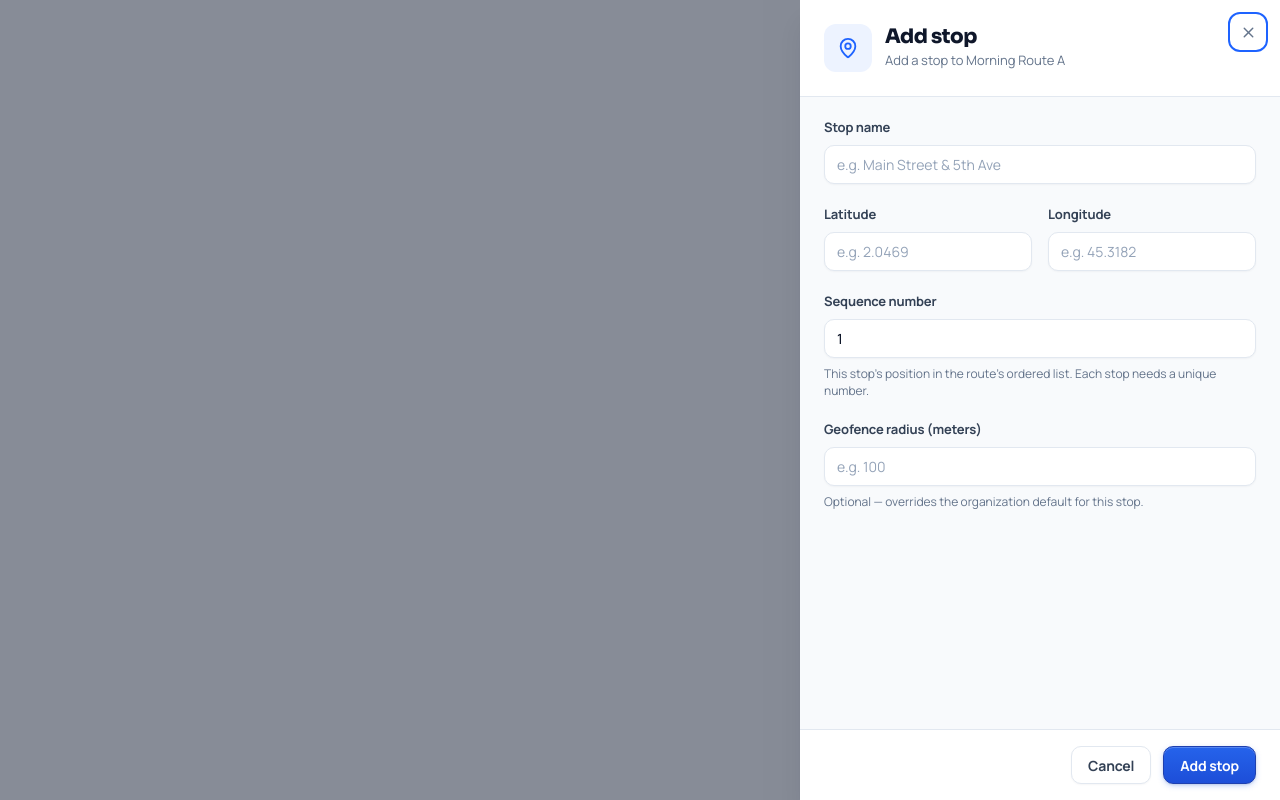
Test: AddStopForm › rejects an out-of-range latitude
Type "Somewhere" into the field with placeholder "e.g. Main Street & 5th Ave" at (1040, 165), box [824,145,1256,184]
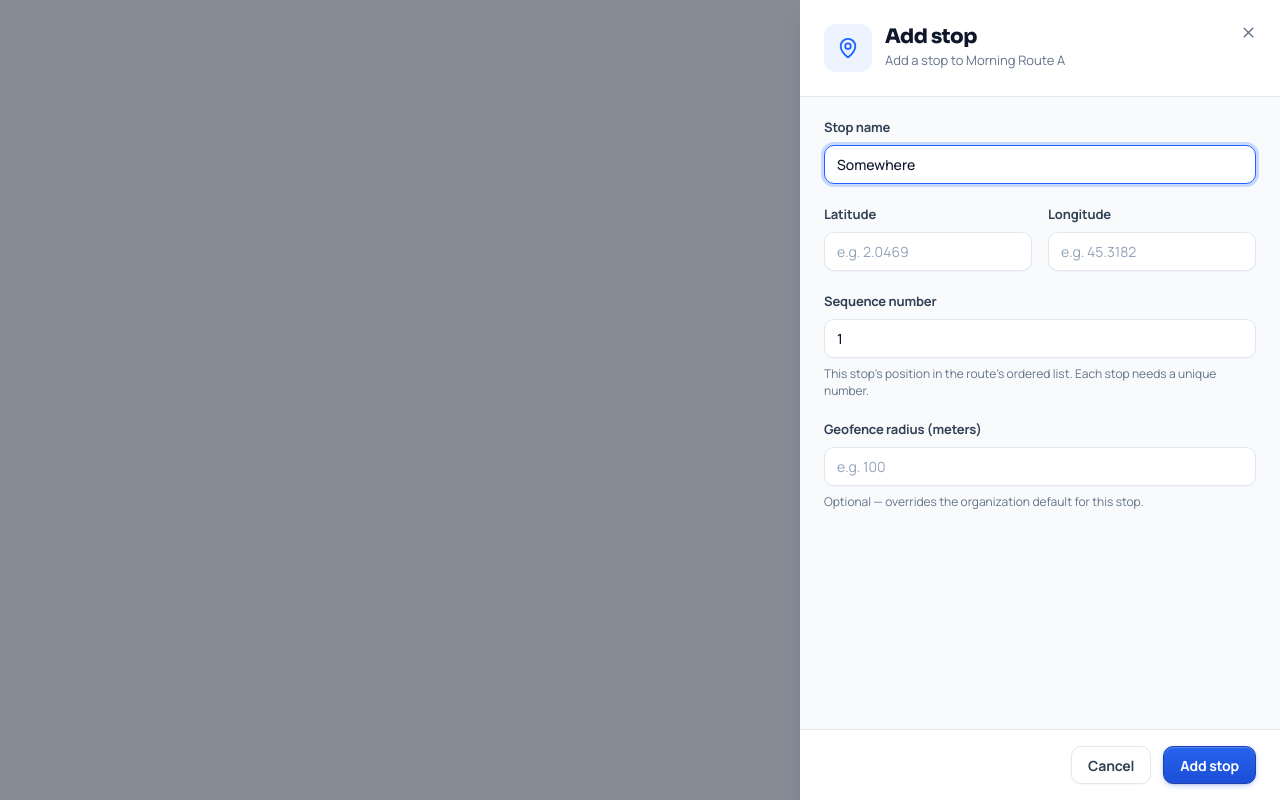
Type "120" into the field with placeholder "e.g. 2.0469" at (928, 252), box [824,232,1032,271]
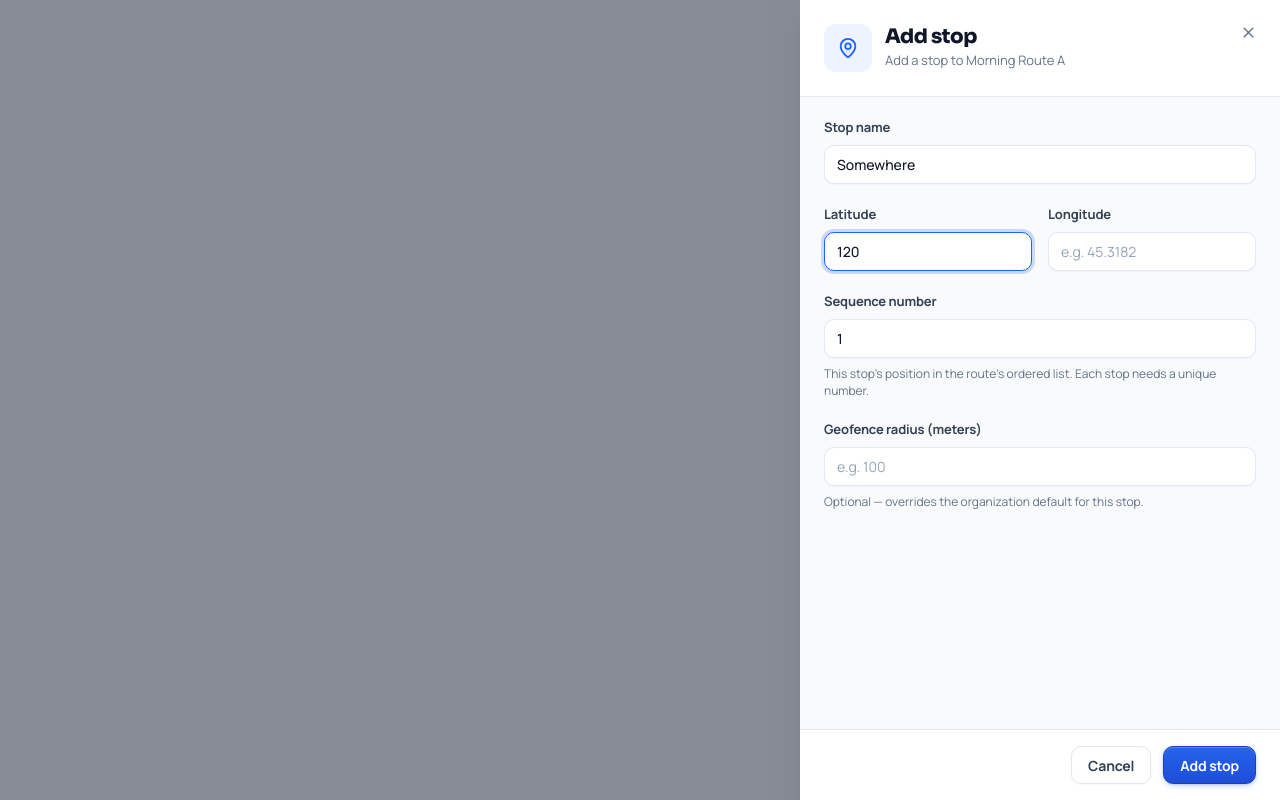
Type "45.3182" into the field with placeholder "e.g. 45.3182" at (1152, 252), box [1048,232,1256,271]
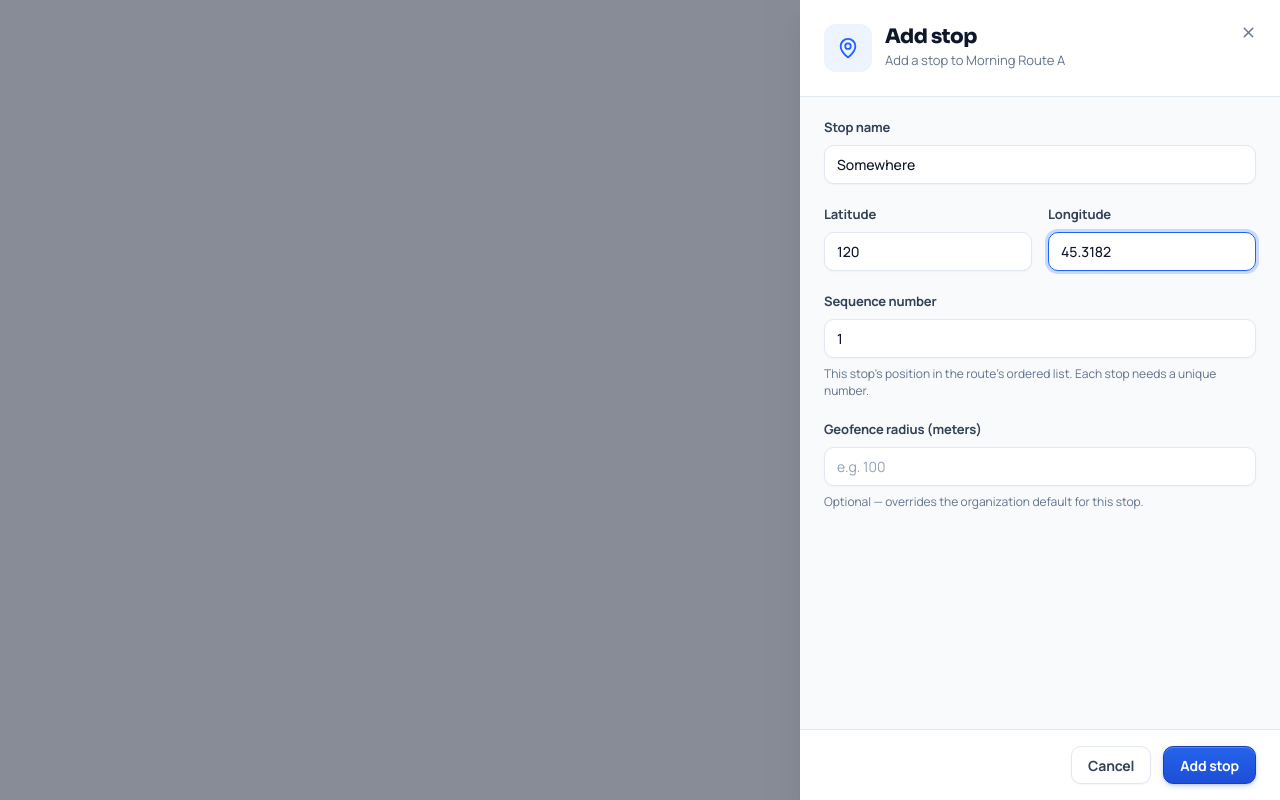
Click the button "Add stop" at (1210, 765), box [1163,746,1256,784]
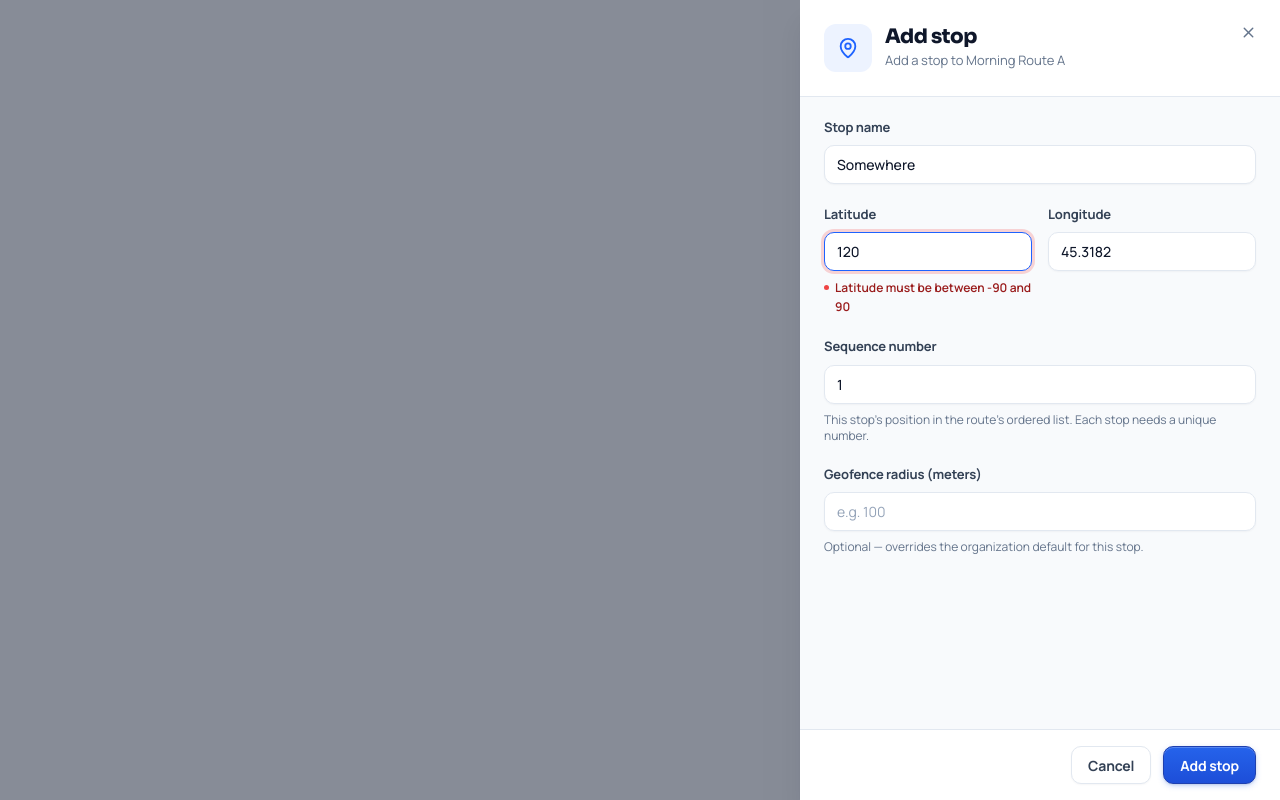
expect the text "Latitude must be between -90 and 90" is shown: met, box [824,279,1032,316]
